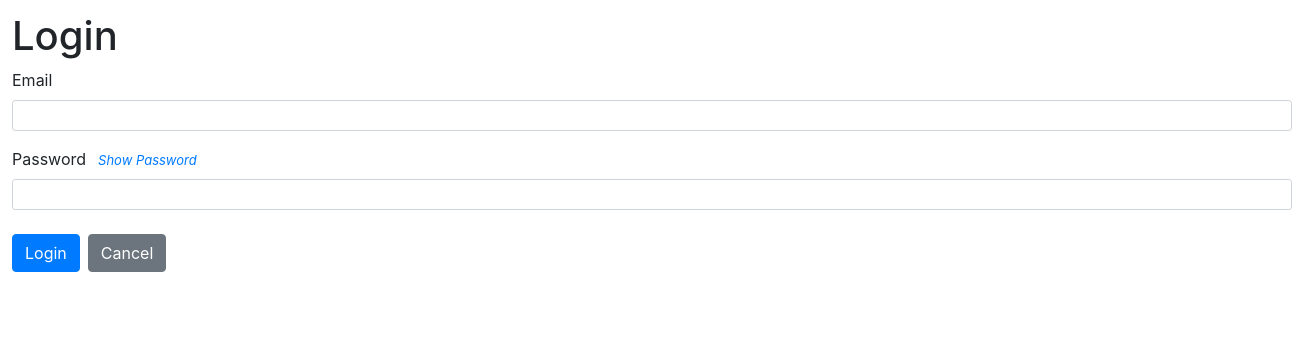
Scenario: shoud show error message with submit failure
Type "abc@def.gh" into the field labelled "Email".
click(652, 116); type("abc@def.gh")  # box [12,100,1292,131]
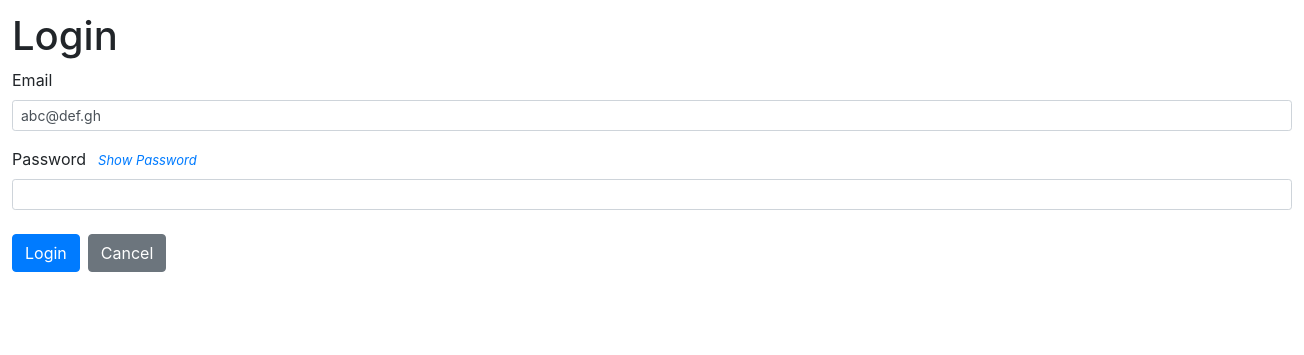
Type "Password1" into the password field labelled "Password".
click(652, 194); type("Password1")  # box [12,179,1292,210]
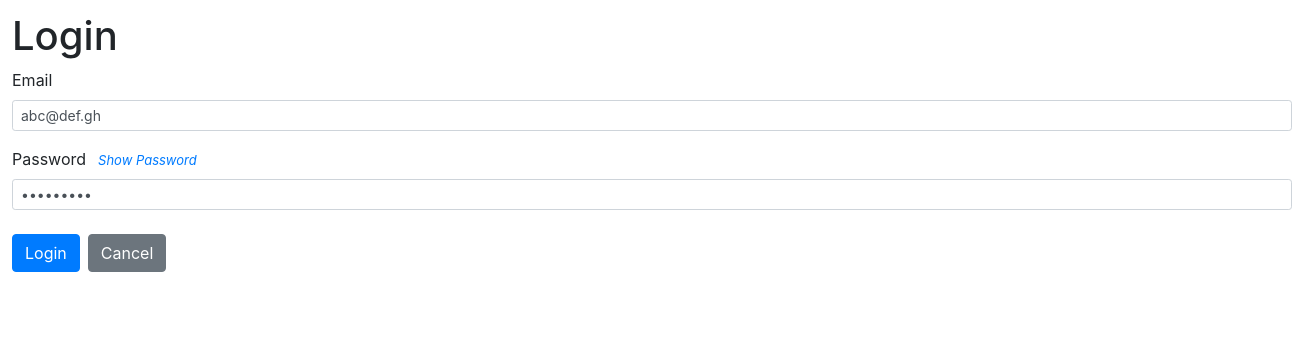
Click the button "Login".
click(46, 253)  # box [12,234,80,272]
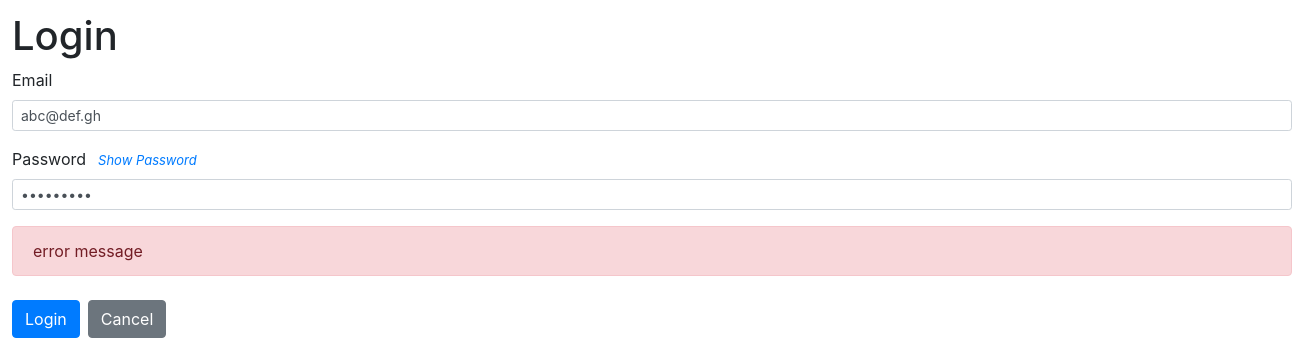
Expected: the message "error message" is shown, [12,226,1292,276]
Expected: the message reads "error message", [33,241,143,261]
